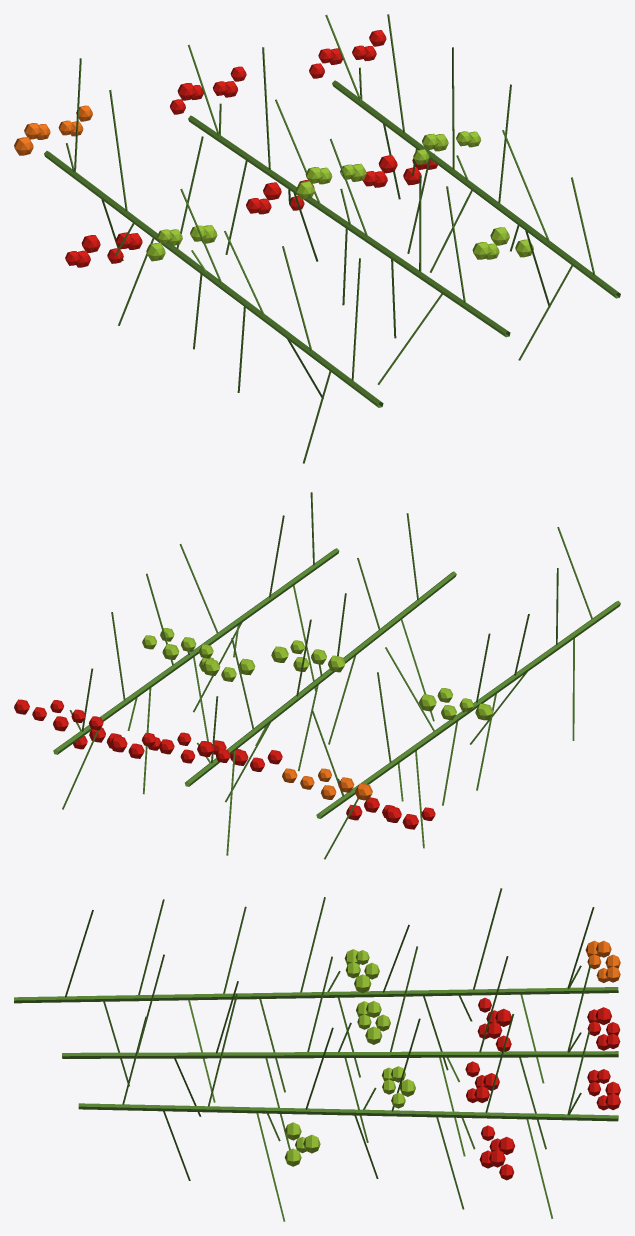
The model's file is r15c1_stems.obj.
3 renders of one model, top to bottom at view 1: azimuth 30°, elevation 25°; view 2: azimuth 150°, elevation 25°; view 3: azimuth 270°, elevation 25°, orthographic. The views are drawn at different scales.
Parts seen in each view (by area): view 1: r15c1_stems; view 2: r15c1_stems; view 3: r15c1_stems.
Part boxes in pixels (x1=…): r15c1_stems: x1=14, y1=14, x2=620, y2=463; r15c1_stems: x1=14, y1=492, x2=620, y2=859; r15c1_stems: x1=14, y1=888, x2=620, y2=1221.
Size of the model in its own units: 1.54 by 0.8563 by 2.27.
